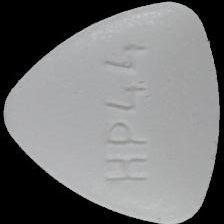68258-2992: (0, 0, 224, 224)
